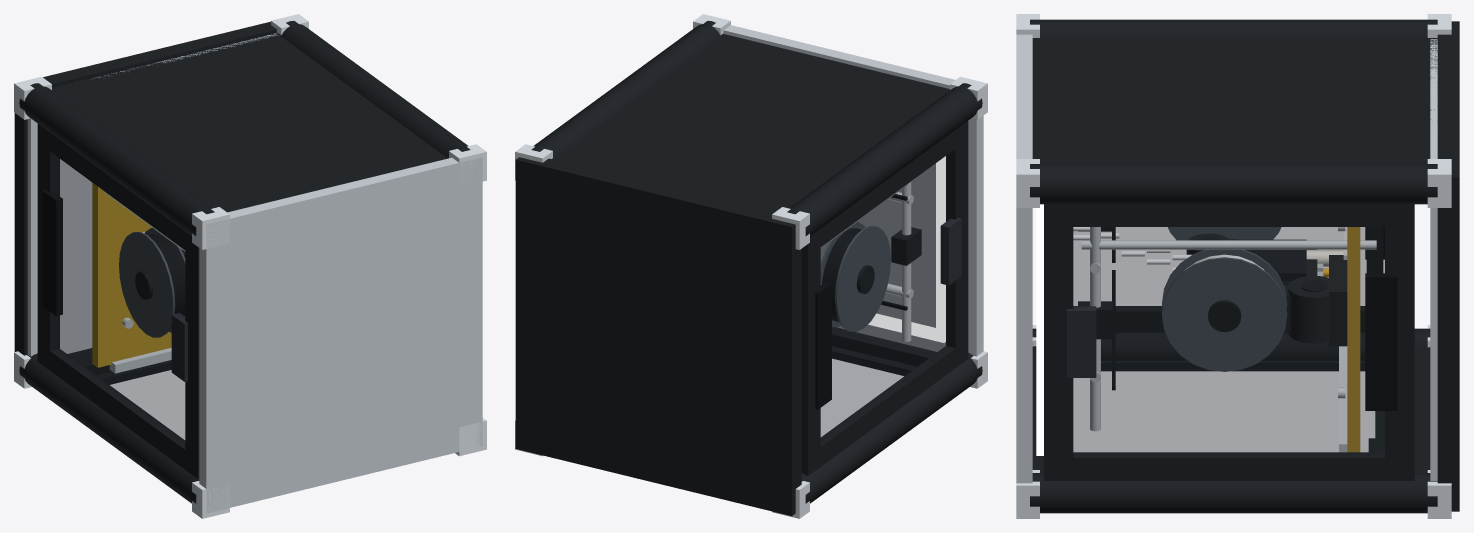
Rendered from deltrol_p2s_optimized.glb.
The picture shows the model from 3 angles, left to right: view 1: azimuth 30°, elevation 25°; view 2: azimuth 150°, elevation 25°; view 3: azimuth 270°, elevation 25°; orthographic projection. The views are drawn at different scales.
Visible parts, largest first — view 1: top_rim_outer, rear_panel, left_glass_window, bottom_panel, corner_post_-0.185_0.185, build_plate, base_plinth, corner_post_-0.185_-0.185, corner_post_0.185_0.185, left_carbon_spool_flange_L, left_wall_front, left_wall_top (+13 smaller); view 2: base_plinth, rear_panel, left_glass_window, top_rim_outer, corner_post_-0.185_0.185, corner_post_-0.185_-0.185, corner_post_0.185_0.185, left_wall_top, left_wall_bot, left_carbon_spool_flange_L, left_wall_front, front_glass_door (+12 smaller); view 3: right_glass_window, rear_panel, front_glass_door, corner_post_0.185_0.185, corner_post_0.185_-0.185, right_white_spool_flange_R, base_plinth, right_wall_front, corner_post_-0.185_0.185, right_wall_top, right_wall_rear, top_rim_outer (+29 smaller).
Part boxes in pixels (left/top/right/bottom): top_rim_outer: left=199, top=157, right=482, bottom=513; rear_panel: left=52, top=33, right=447, bottom=212; left_glass_window: left=58, top=158, right=184, bottom=441; bottom_panel: left=27, top=33, right=278, bottom=356; corner_post_-0.185_0.185: left=19, top=83, right=214, bottom=235; build_plate: left=92, top=182, right=171, bottom=367; base_plinth: left=14, top=21, right=276, bottom=355; corner_post_-0.185_-0.185: left=19, top=353, right=199, bottom=503; corner_post_0.185_0.185: left=277, top=21, right=470, bottom=158; left_carbon_spool_flange_L: left=119, top=232, right=175, bottom=337; left_wall_front: left=50, top=349, right=185, bottom=469; left_wall_top: left=185, top=232, right=199, bottom=478; base_plinth: left=515, top=157, right=801, bottom=516; rear_panel: left=553, top=34, right=949, bottom=213; left_glass_window: left=821, top=155, right=947, bottom=438; top_rim_outer: left=723, top=25, right=983, bottom=356; corner_post_-0.185_0.185: left=787, top=83, right=982, bottom=235; corner_post_-0.185_-0.185: left=801, top=353, right=982, bottom=503; corner_post_0.185_0.185: left=531, top=21, right=723, bottom=159; left_wall_top: left=946, top=121, right=968, bottom=367; left_wall_bot: left=801, top=229, right=820, bottom=475; left_carbon_spool_flange_L: left=834, top=226, right=890, bottom=331; left_wall_front: left=820, top=346, right=955, bottom=466; front_glass_door: left=821, top=354, right=907, bottom=435; right_glass_window: left=1074, top=227, right=1384, bottom=453; rear_panel: left=1032, top=39, right=1437, bottom=163; front_glass_door: left=1074, top=366, right=1374, bottom=451; corner_post_0.185_0.185: left=1030, top=163, right=1437, bottom=204; corner_post_0.185_-0.185: left=1030, top=473, right=1437, bottom=513; right_white_spool_flange_R: left=1162, top=257, right=1287, bottom=371; base_plinth: left=1437, top=21, right=1459, bottom=511; right_wall_front: left=1072, top=452, right=1385, bottom=480; corner_post_-0.185_0.185: left=1030, top=19, right=1437, bottom=38; right_wall_top: left=1044, top=204, right=1073, bottom=480; right_wall_rear: left=1072, top=204, right=1385, bottom=226; top_rim_outer: left=1016, top=34, right=1032, bottom=483.
Bounding box in the file's own units: 0.414 × 0.418 × 0.481.
Materials: 17 (17 with a texture image).
